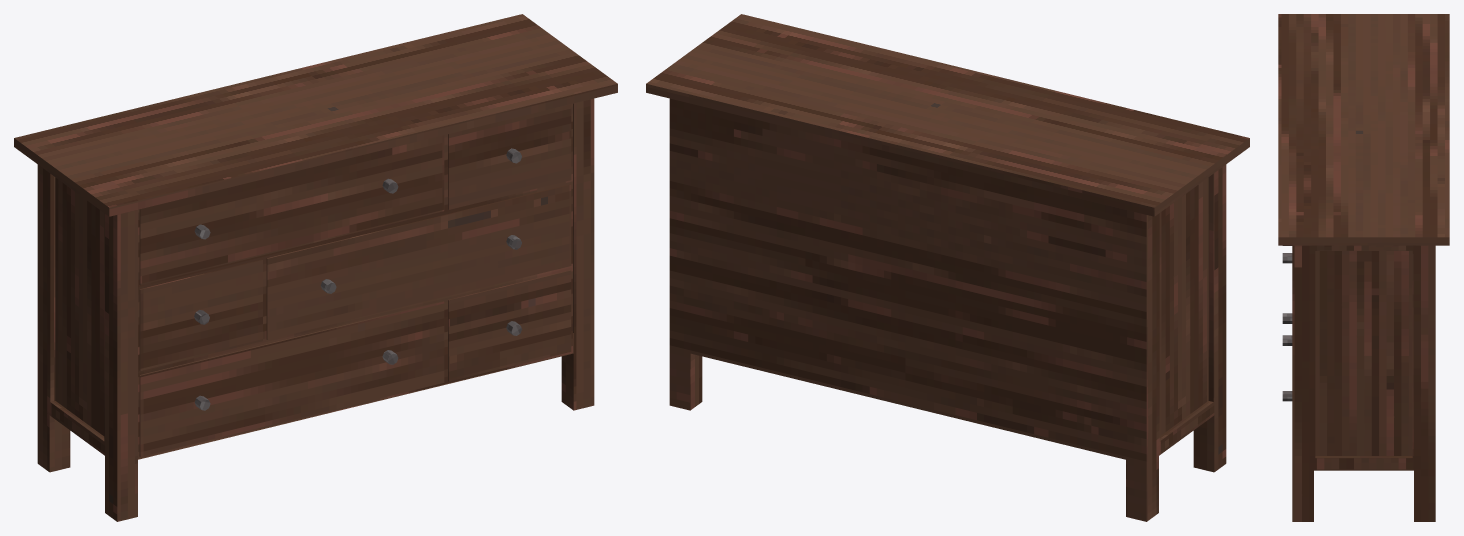
The model's file is dresser2.fbx.
The picture shows the model from 3 angles, left to right: view 1: azimuth 30°, elevation 25°; view 2: azimuth 150°, elevation 25°; view 3: azimuth 270°, elevation 25°; orthographic projection. The views are drawn at different scales.
Parts seen in each view (by area): view 1: Dresser.001; view 2: Dresser.001; view 3: Dresser.001.
Boxes of the visible parts, x1,y1,x2,y2 form: Dresser.001: [14, 14, 617, 521]; Dresser.001: [646, 14, 1249, 521]; Dresser.001: [1278, 14, 1449, 521].
Size of the model in its own units: 149 by 90.83 by 48.47.
